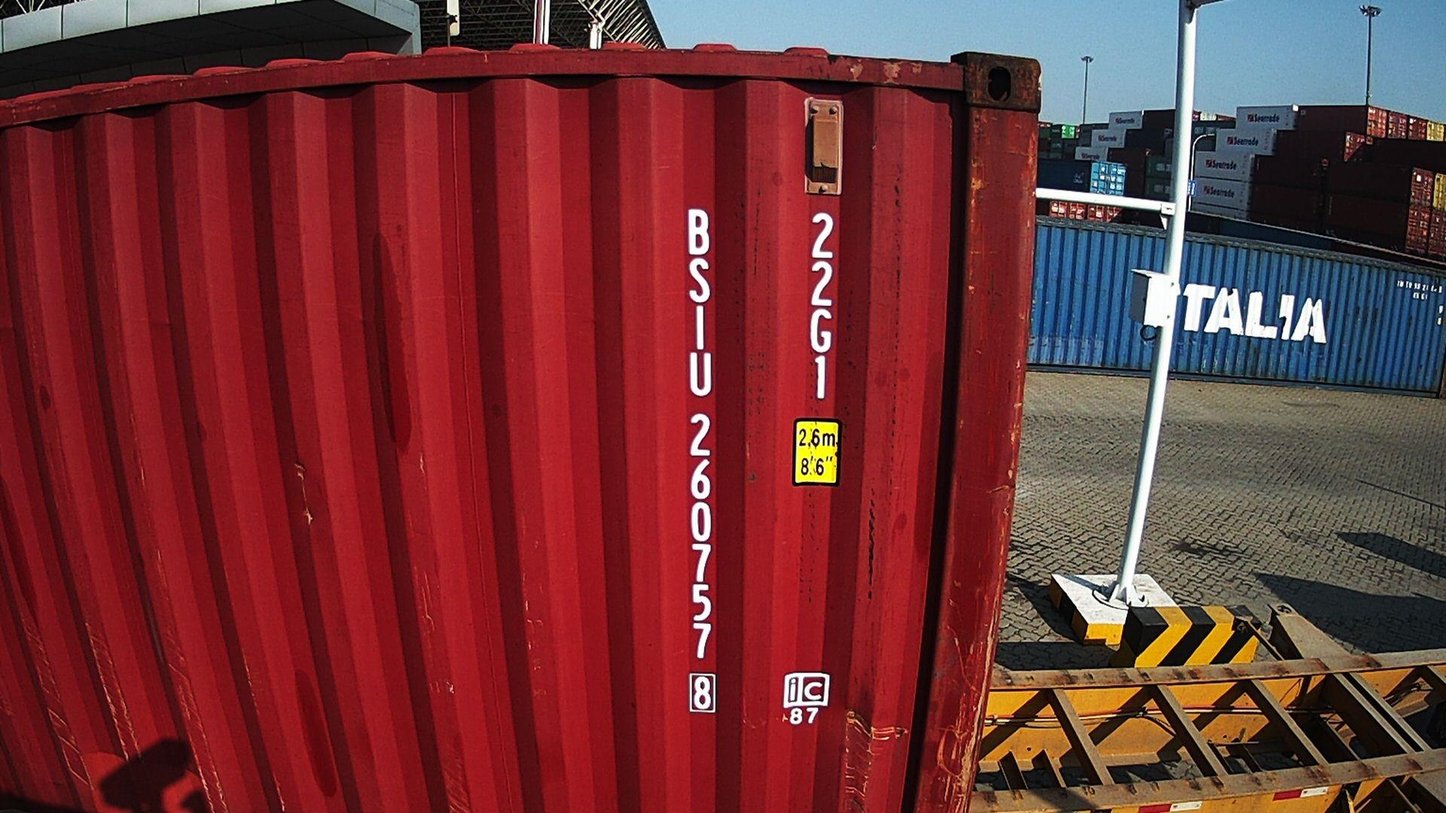container-numbers: (679, 199, 723, 718), (801, 207, 844, 404)
